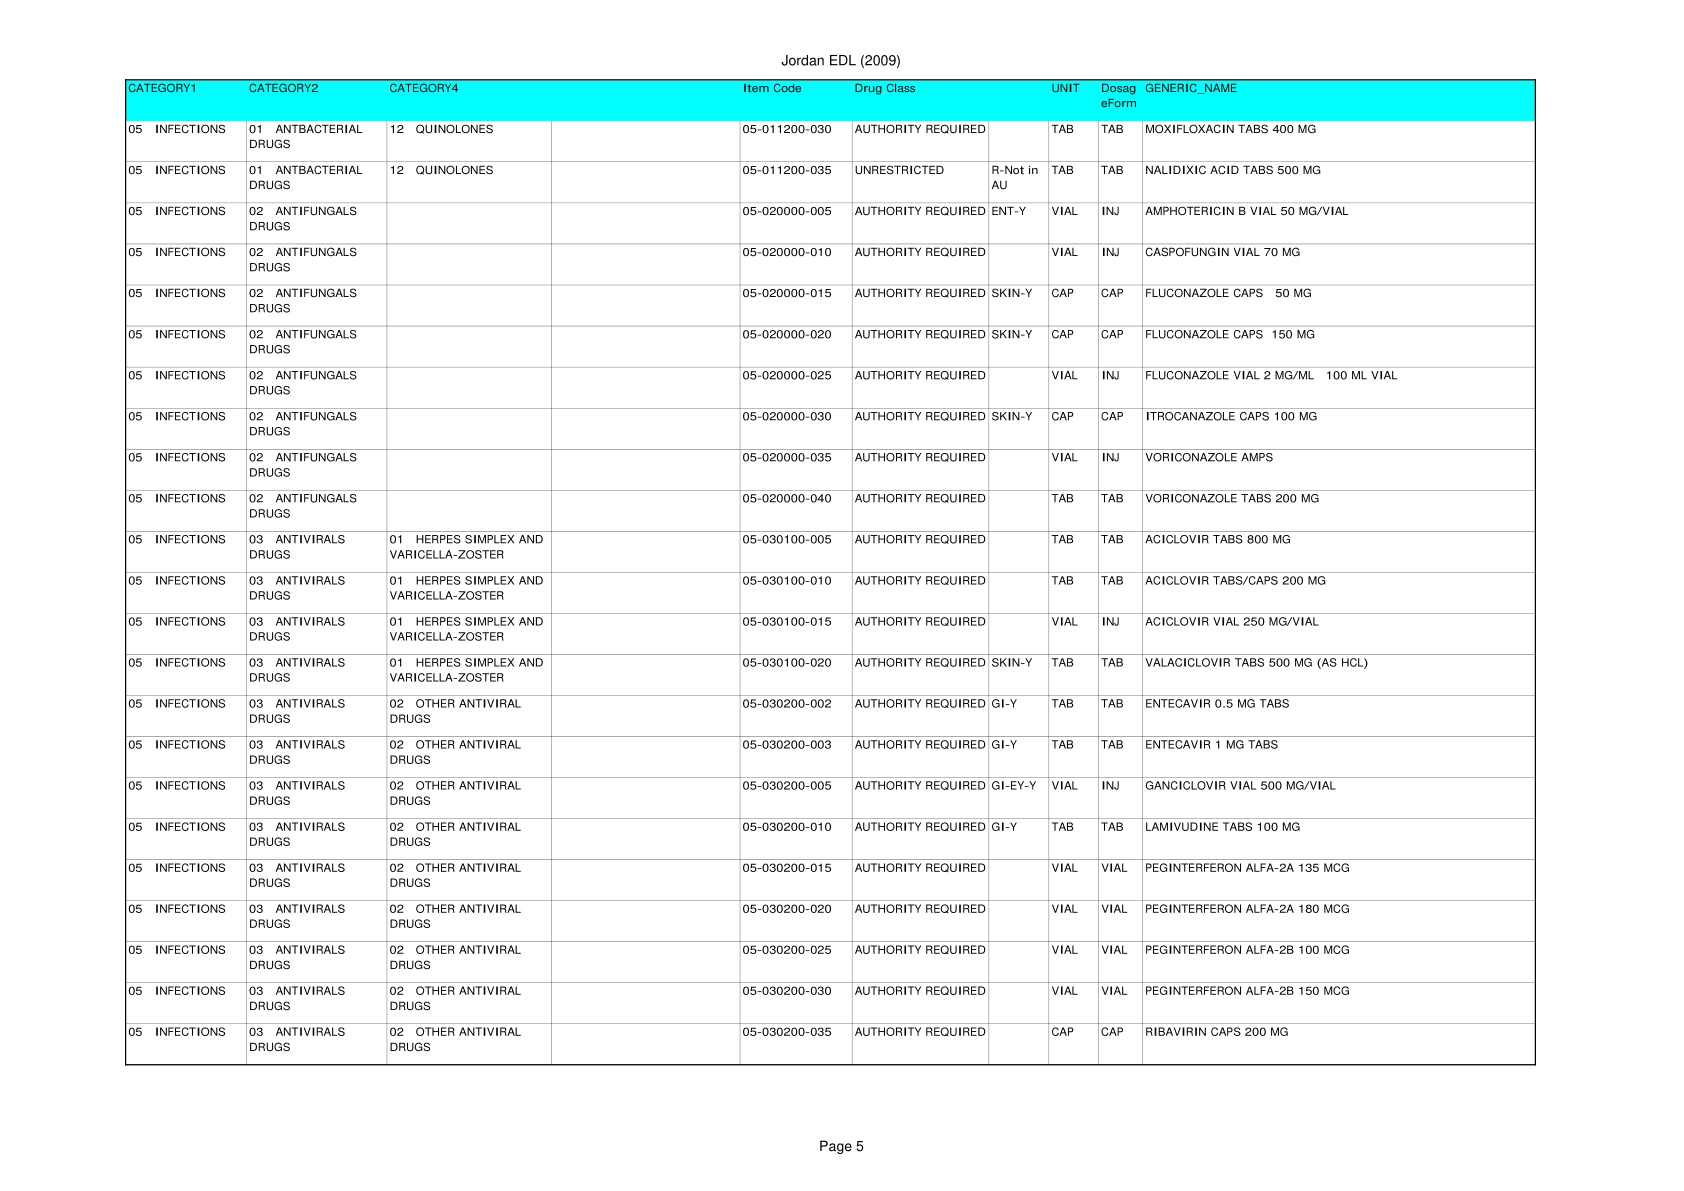partial_lined: (125, 79, 1536, 1066)
